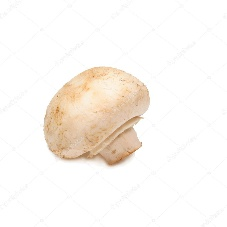mushroom: (44, 66, 155, 167)
